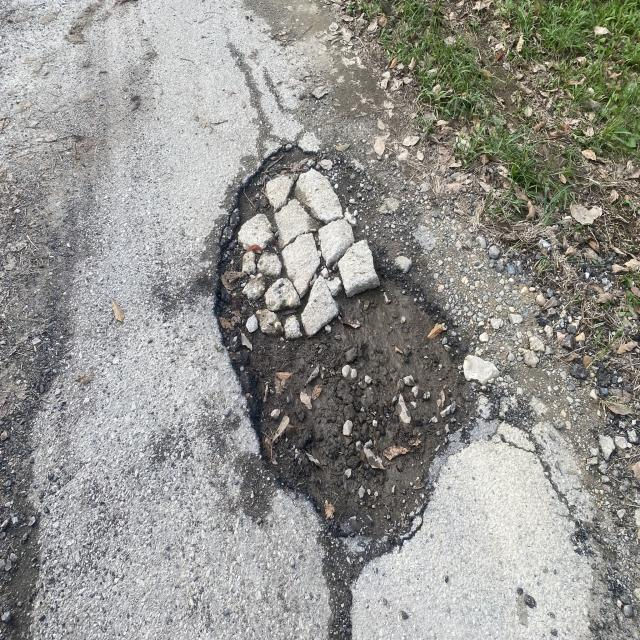pothole: (161, 106, 486, 600)
